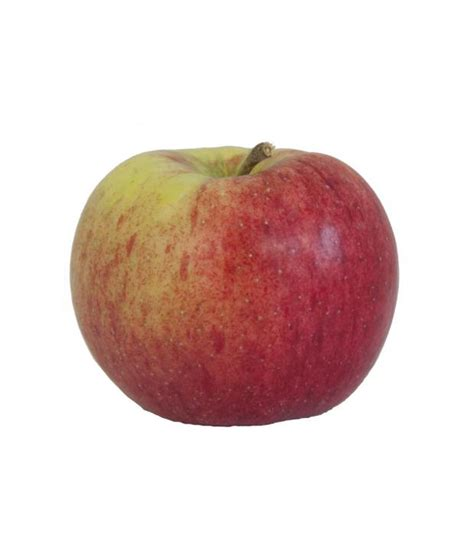apple: (64, 136, 411, 434)
